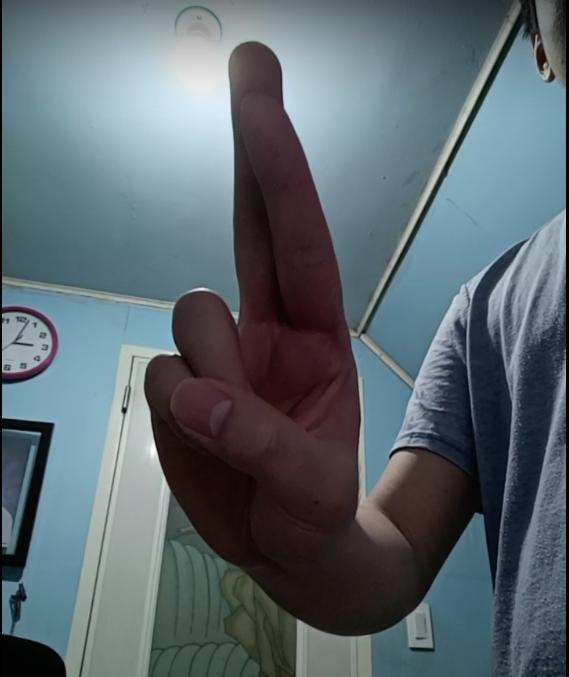r: (140, 40, 362, 604)
